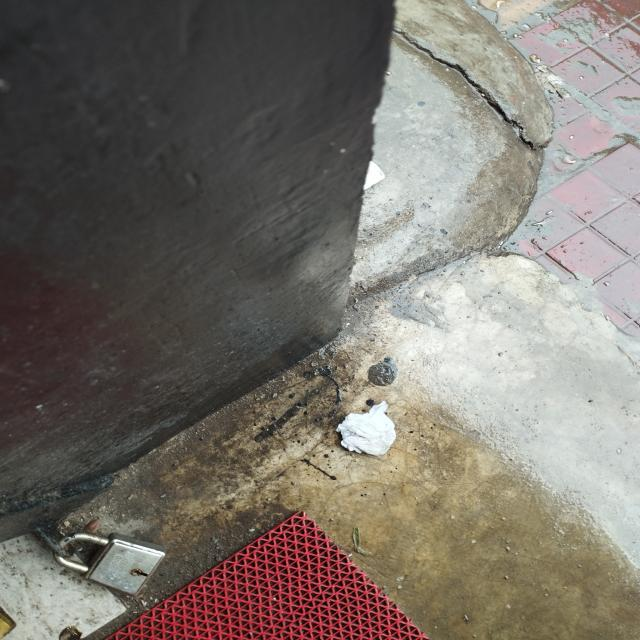paper: (331, 400, 397, 458)
